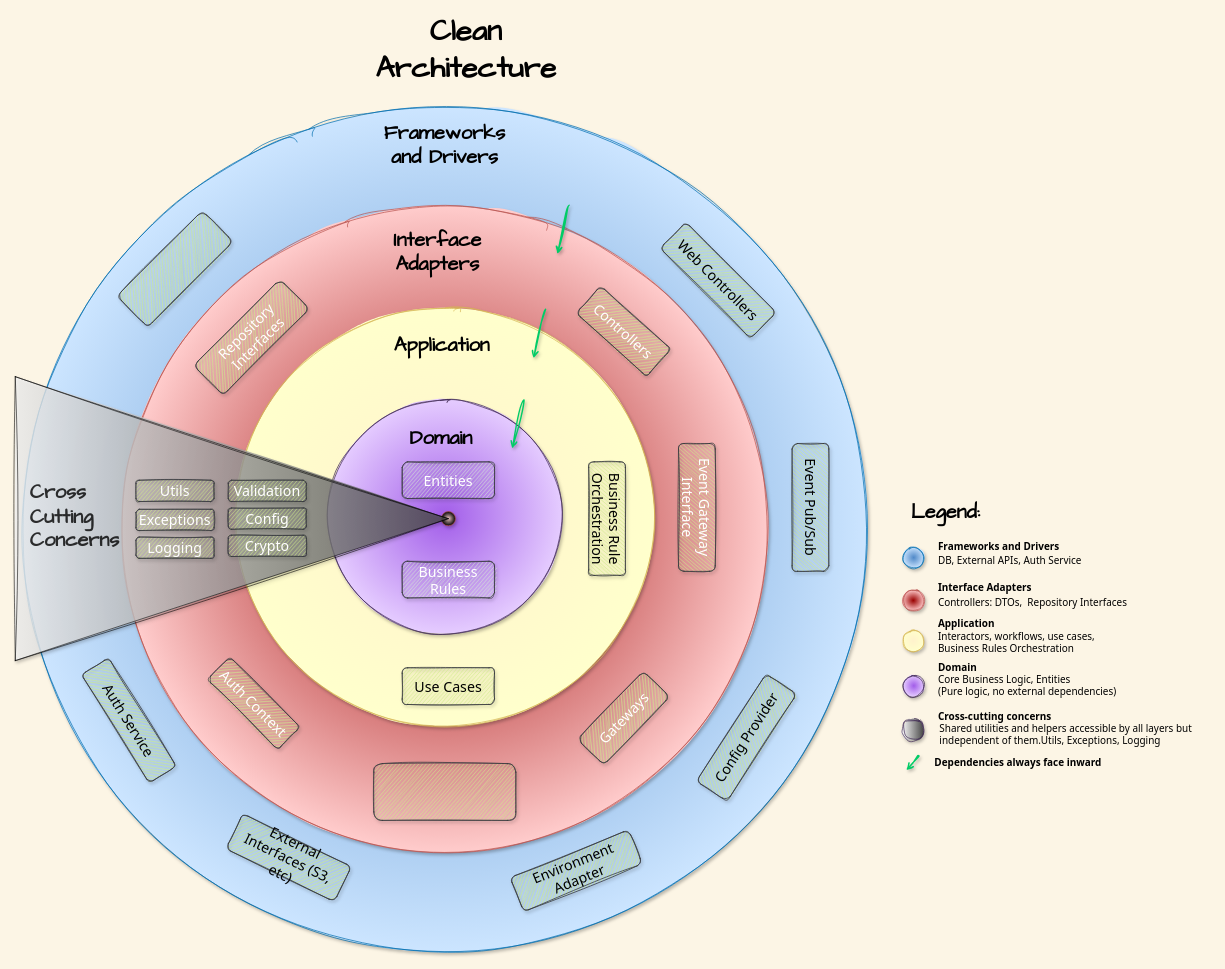
The diagram is 1225 pixels wide and 969 high, and some of its shapes have lost their labels. Each missing label, with the centre of its shape:
DTOs Request/Response Models: the point at 445,792
Repository Implementations: the point at 175,269
